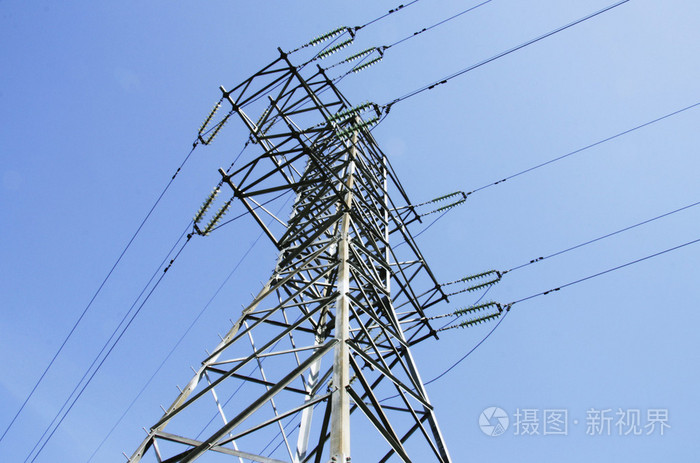insulator: (193, 187, 234, 236), (333, 100, 380, 138), (198, 100, 229, 145), (454, 302, 501, 330), (311, 26, 350, 59), (349, 48, 385, 74), (464, 270, 501, 290), (436, 189, 466, 212)
